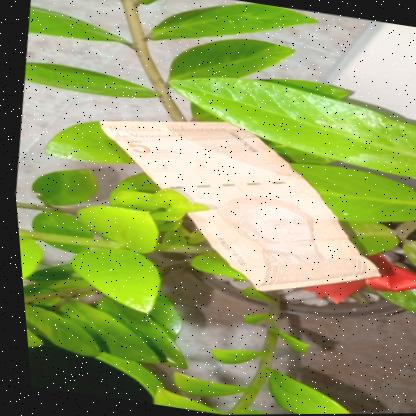five-front-vef: (72, 101, 398, 311)
